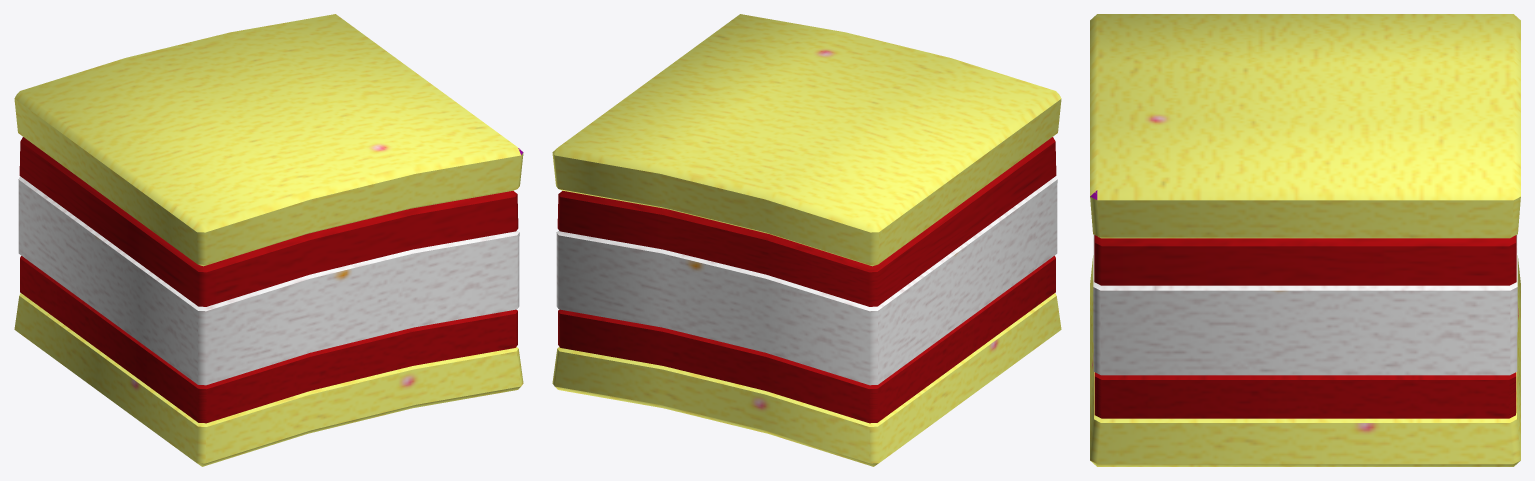
File: DoubleLayersSquare3_UV_FBX.fbx
3 renders of one model, left to right at view 1: azimuth 30°, elevation 25°; view 2: azimuth 150°, elevation 25°; view 3: azimuth 270°, elevation 25°, orthographic. The views are drawn at different scales.
Parts seen in each view (by area): view 1: 5layers; view 2: 5layers; view 3: 5layers.
Boxes of the visible parts, x1,y1,x2,y2 form: 5layers: (14, 14, 523, 466); 5layers: (552, 14, 1061, 466); 5layers: (1090, 14, 1520, 466).
Bounding box in the file's own units: 120 × 87.67 × 120.
